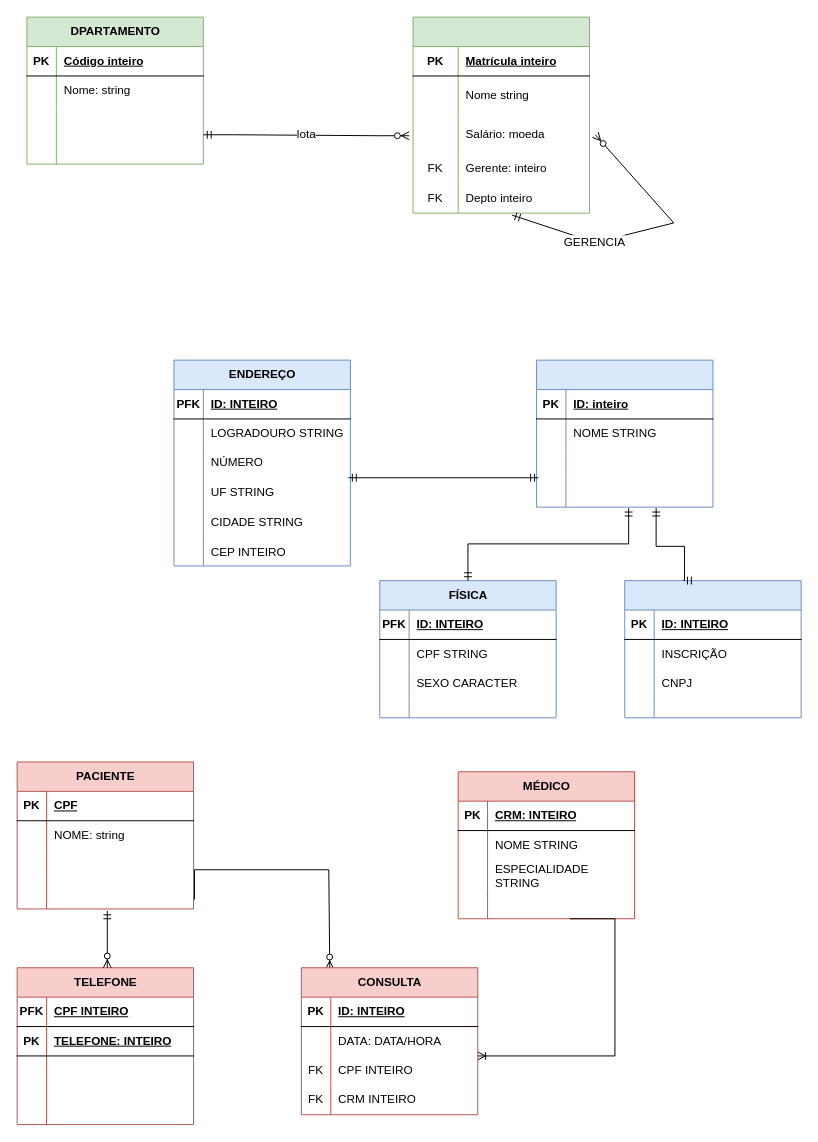
Image size: 818x1142. Some labels were removed from this diagram. The shapes that lost their labels are listed below. From the top down, each one's box as (x1, y1, x2, y2) in pixels, then its label:
(412, 16, 589, 213): FUNCIONÁRIO
(536, 359, 713, 507): PESSOA
(624, 580, 801, 718): JURÍDICA
